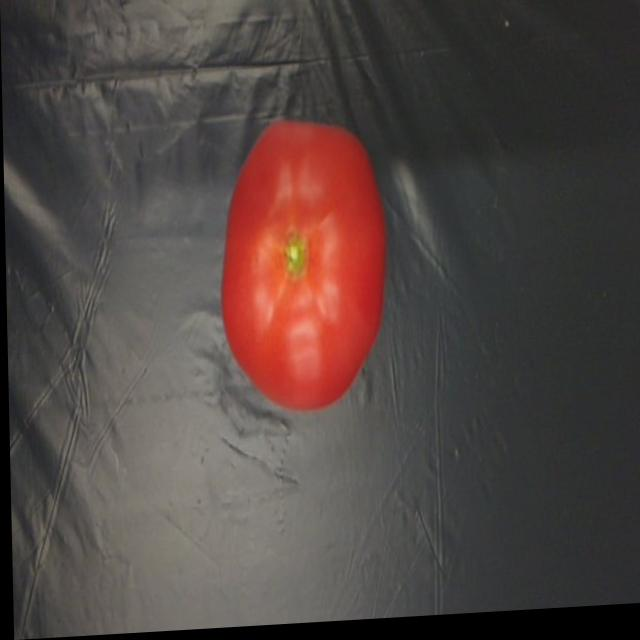kirmizi: (218, 113, 399, 420)
